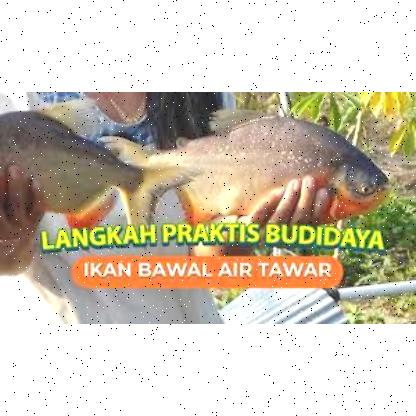ikan-pacu: (122, 107, 390, 221)
